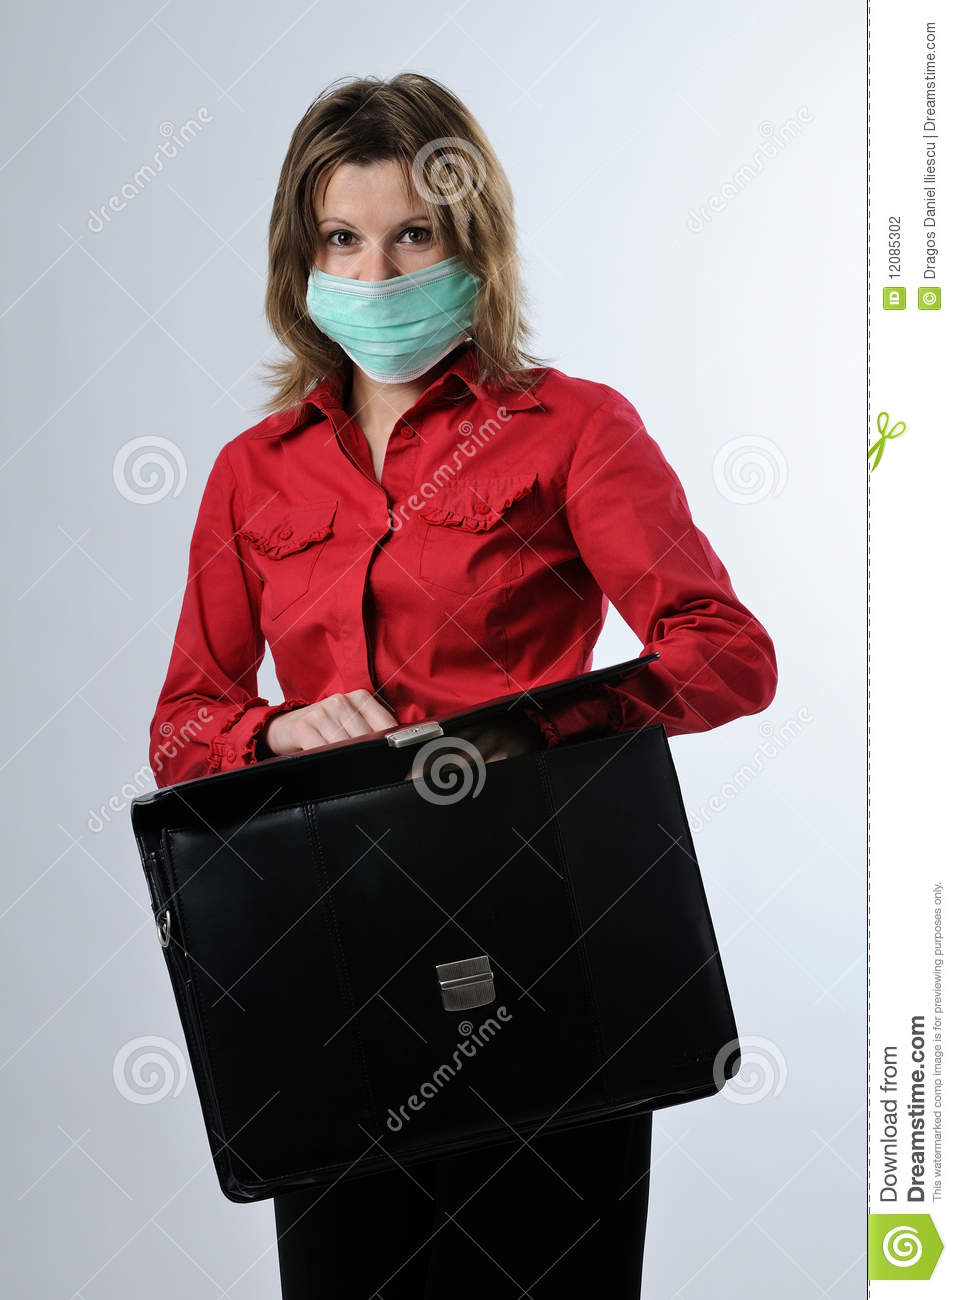mask: (301, 257, 485, 385)
